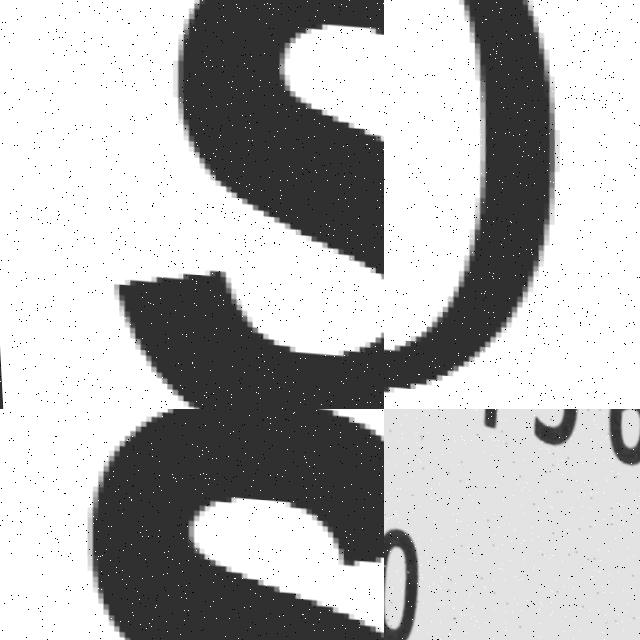0: (384, 0, 585, 403), (384, 496, 446, 640)
5: (498, 409, 611, 472)
6: (564, 409, 640, 496)
S: (74, 0, 384, 409), (36, 409, 384, 640)
